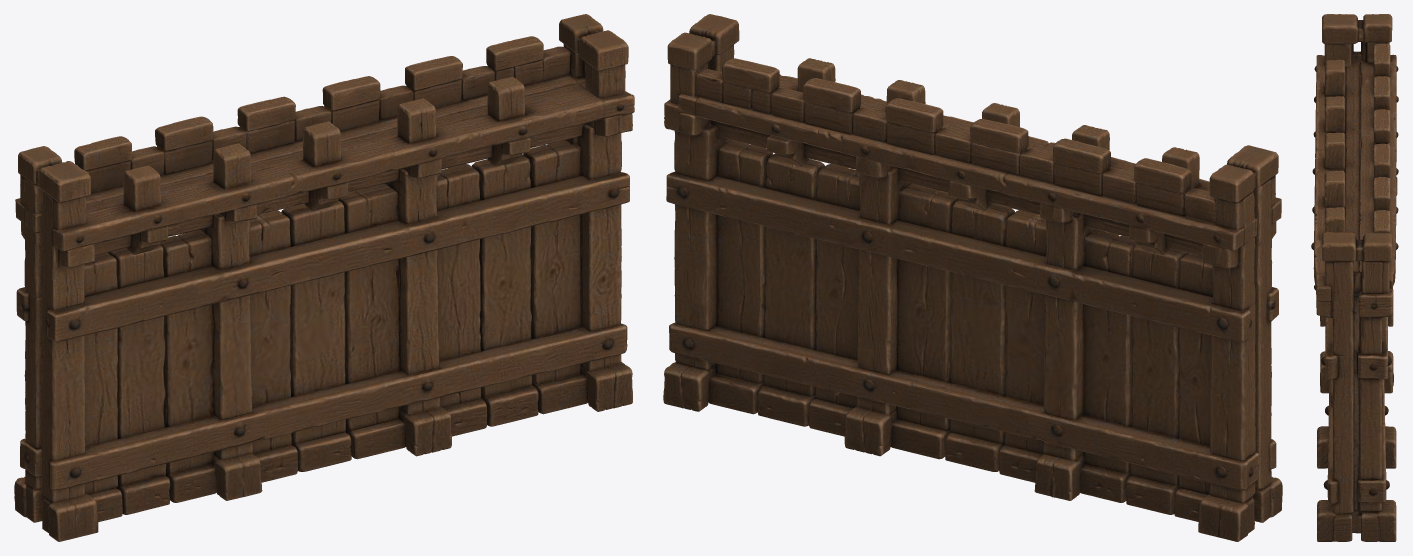
File: wall_large.glb
3 renders of one model, left to right at view 1: azimuth 30°, elevation 25°; view 2: azimuth 150°, elevation 25°; view 3: azimuth 270°, elevation 25°, orthographic. The views are drawn at different scales.
Bounding box in the file's own units: 1.9 × 1.13 × 0.3005.
1 material, 1 textured.
